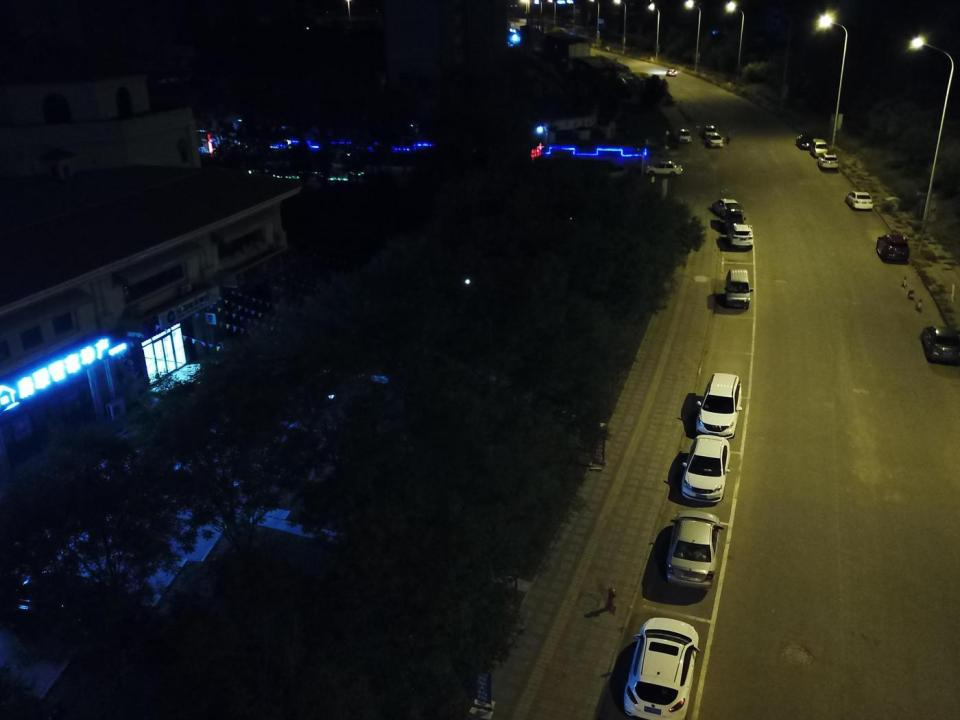car: (619, 617, 701, 720), (664, 507, 725, 588), (688, 366, 744, 440), (677, 434, 733, 504), (918, 321, 959, 367), (874, 230, 911, 264), (728, 222, 755, 250), (645, 160, 685, 177), (845, 191, 874, 210), (817, 150, 841, 170), (796, 132, 817, 150), (706, 133, 724, 150), (704, 124, 720, 139), (678, 126, 692, 143), (666, 69, 678, 78)
van: (724, 266, 754, 310), (720, 204, 747, 229), (710, 196, 738, 218), (808, 137, 829, 160)
